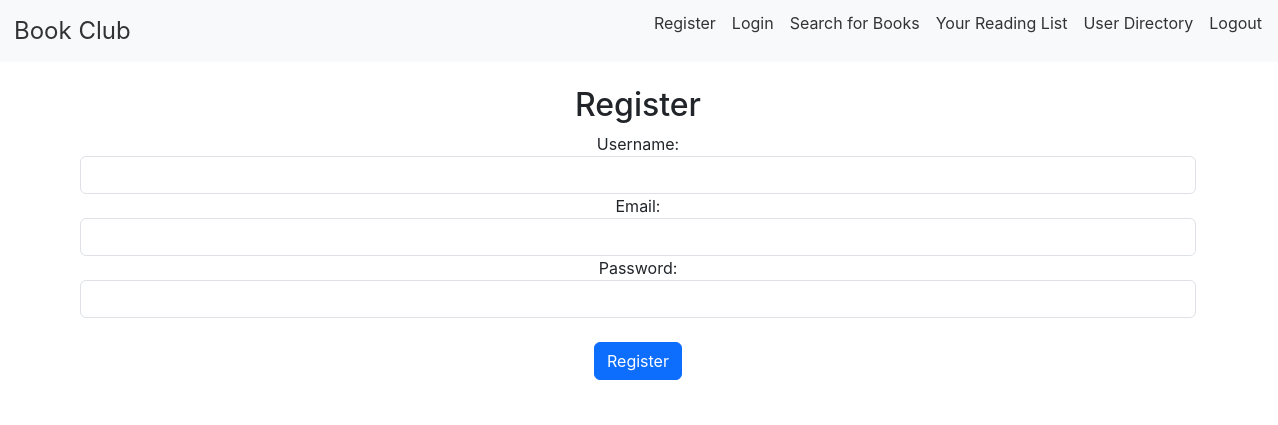
Test: Registration Form › should display network error message when network error occurs
The width and height of the screenshot is (1278, 425).
Type "testuser" into the field with id "username" at x=638, y=175, box [80, 156, 1196, 194]
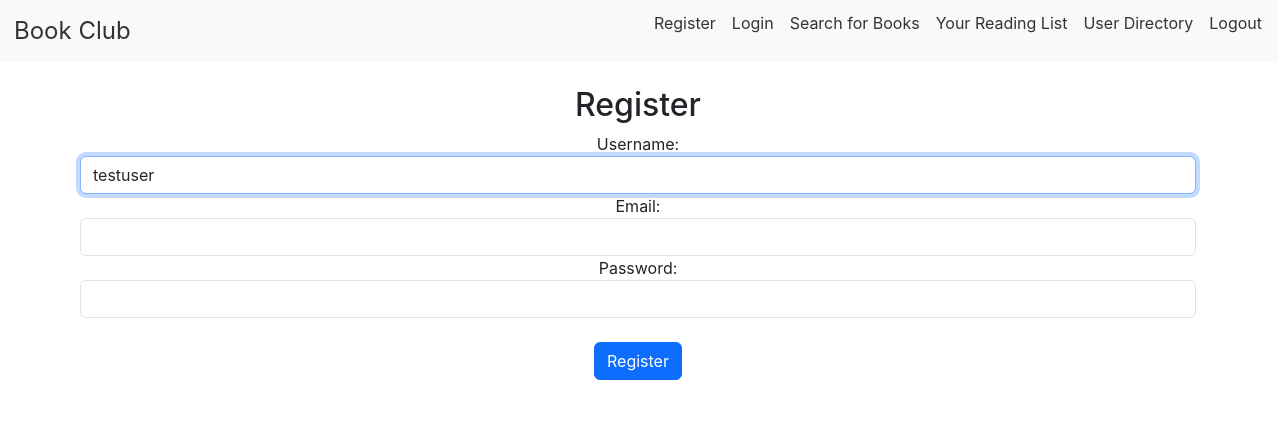
Type "testuser@example.com" into the field with id "email" at x=638, y=237, box [80, 218, 1196, 256]
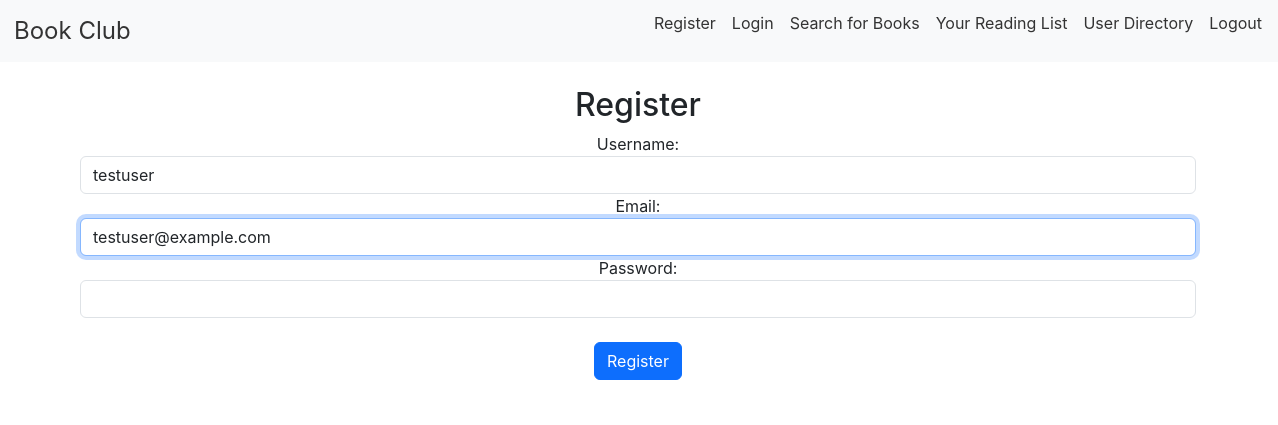
Type "password123" into the password field labelled "Password:" at x=638, y=299, box [80, 280, 1196, 318]
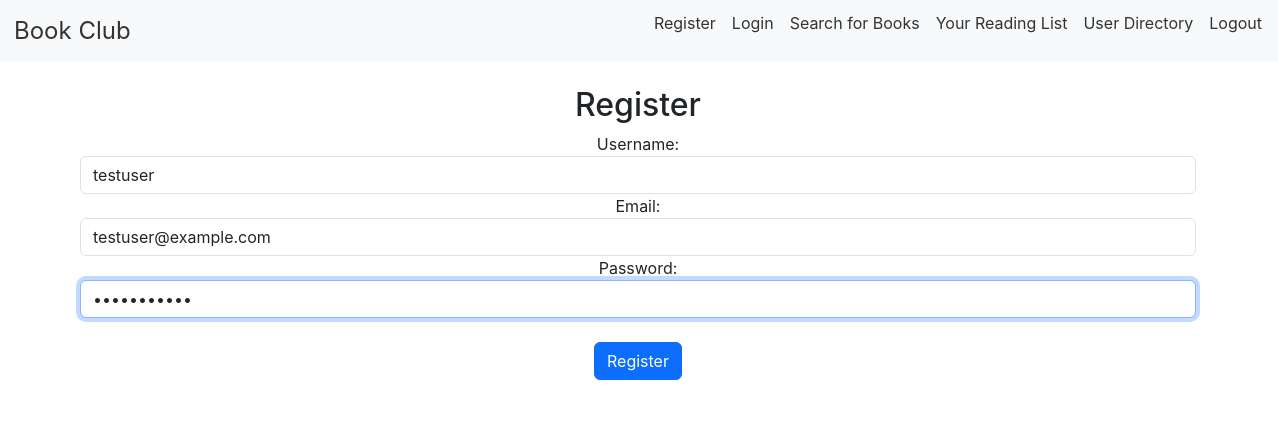
Click the submit button at x=638, y=361, box [594, 342, 682, 380]
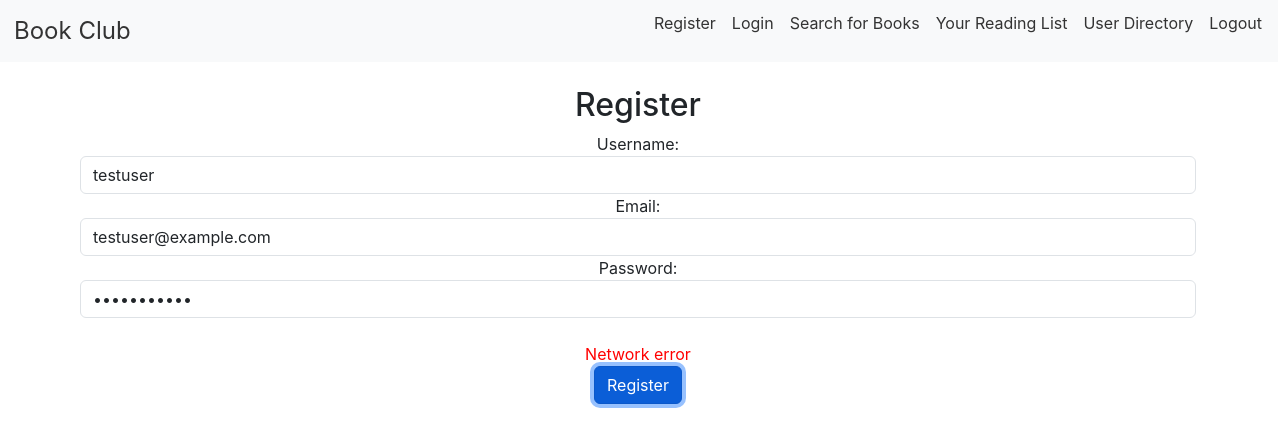
Result: the text with class "error-message" reads "Network error" at [585, 344, 691, 364]
